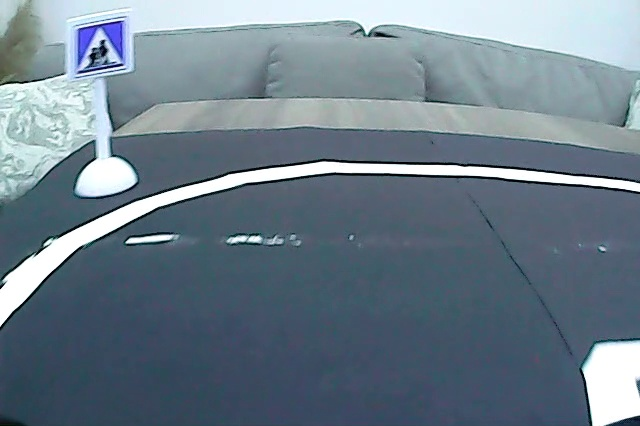school crossing: (72, 16, 131, 79)
